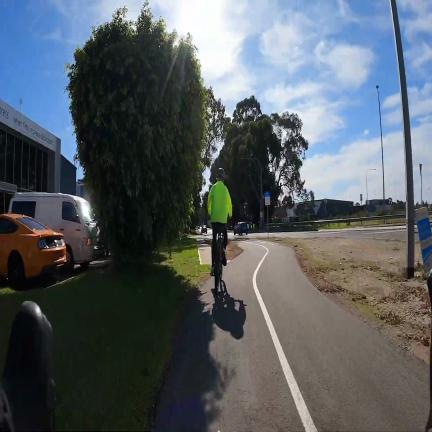Bike_Lane: (155, 239, 429, 432)
